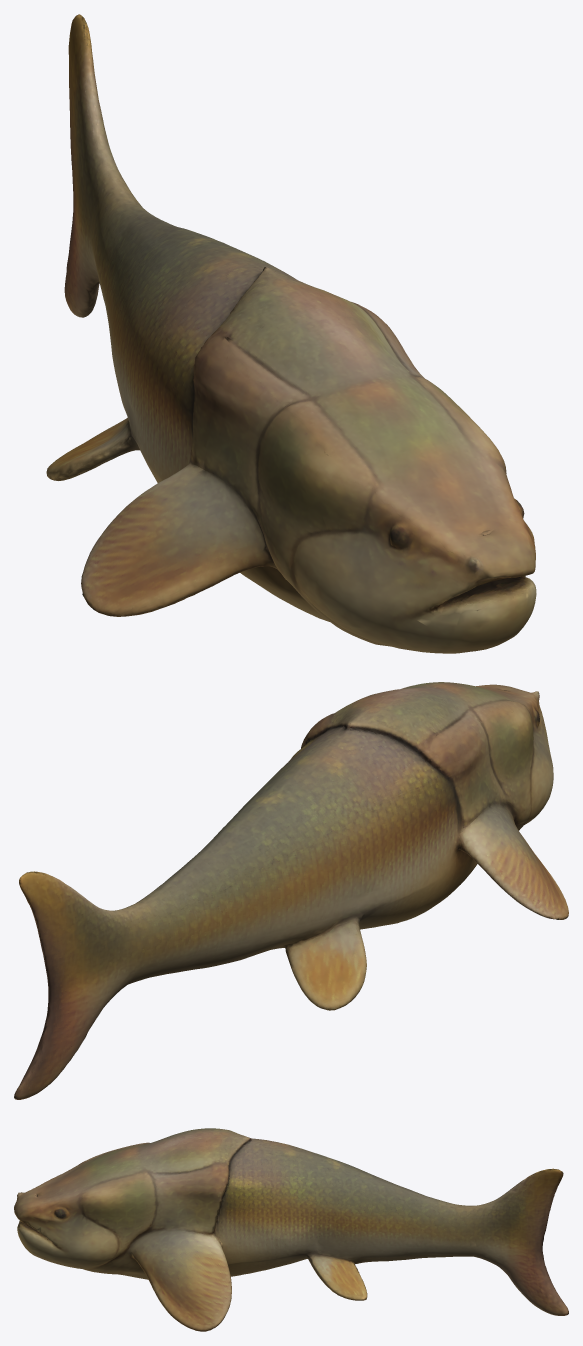
3 views of the same model, one above another, from view 1: azimuth 30°, elevation 25°; view 2: azimuth 150°, elevation 25°; view 3: azimuth 270°, elevation 25° (orthographic). The views are drawn at different scales.
Parts seen in each view (by area): view 1: world; view 2: world; view 3: world.
Part boxes in pixels (x1=…): world: x1=46, y1=14, x2=536, y2=653; world: x1=14, y1=682, x2=568, y2=1099; world: x1=14, y1=1128, x2=568, y2=1331.
Size of the model in its own units: 0.1583 by 0.1051 by 0.35.
1 material, 1 textured.
